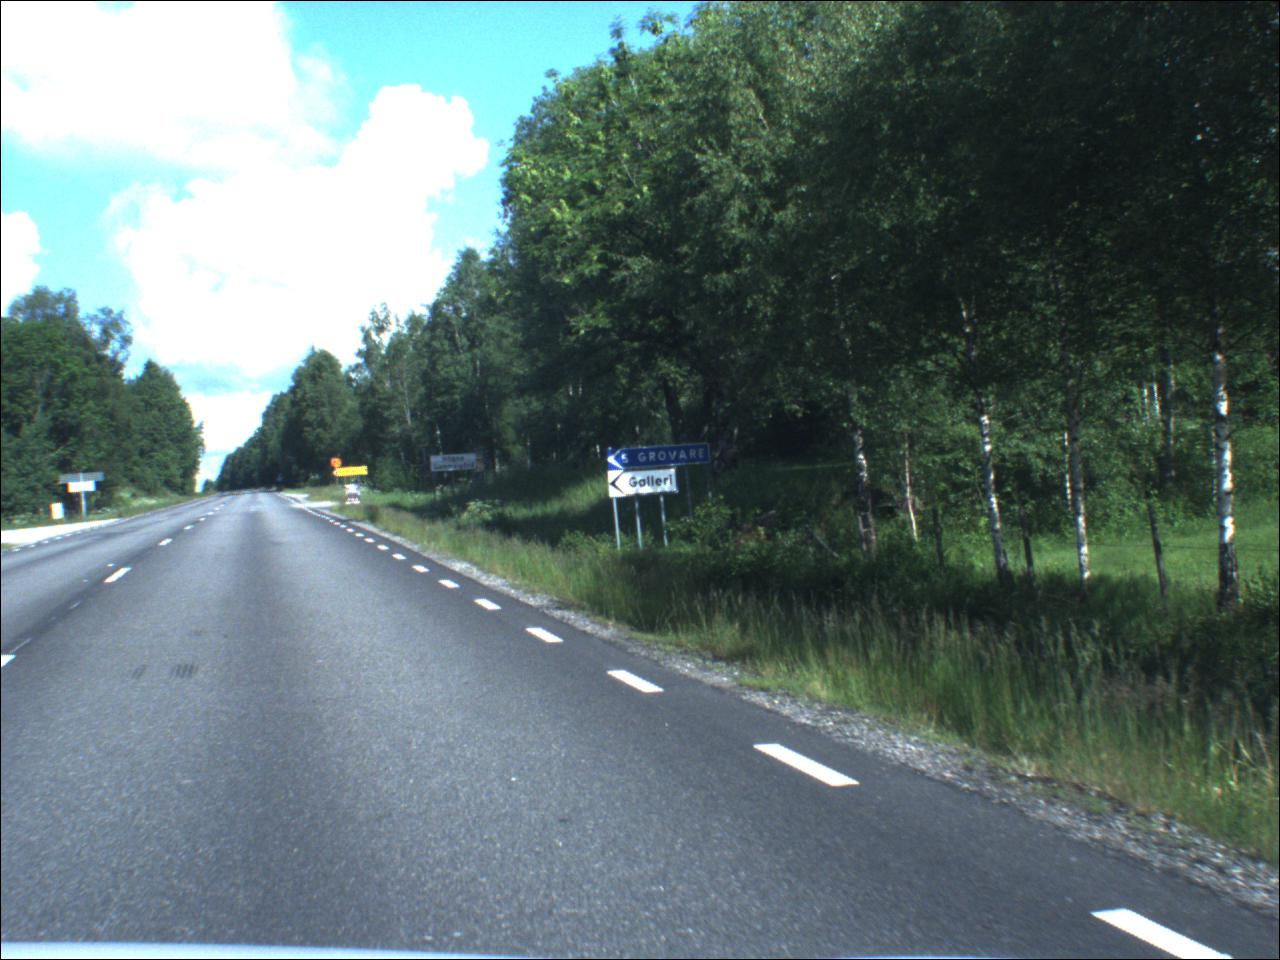80_SIGN: (333, 459, 345, 471)
